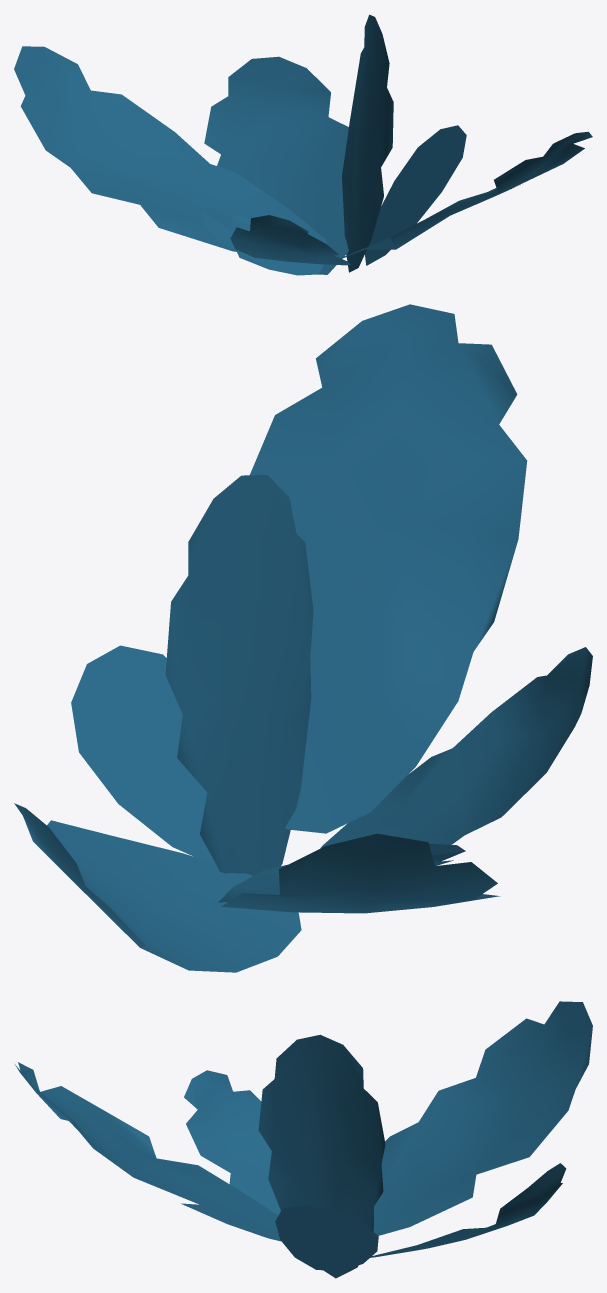
The model's file is bush.glb.
3 views of the same model, one above another, from view 1: azimuth 30°, elevation 25°; view 2: azimuth 150°, elevation 25°; view 3: azimuth 270°, elevation 25° (orthographic). The views are drawn at different scales.
Visible parts, largest first — view 1: TropicalTree; view 2: TropicalTree; view 3: TropicalTree.
Part boxes in pixels (bbox=[...]): TropicalTree: bbox=[14, 14, 592, 275]; TropicalTree: bbox=[14, 304, 592, 972]; TropicalTree: bbox=[15, 1001, 592, 1278].
Bounding box in the file's own units: 0.3829 × 0.2735 × 0.5682.
